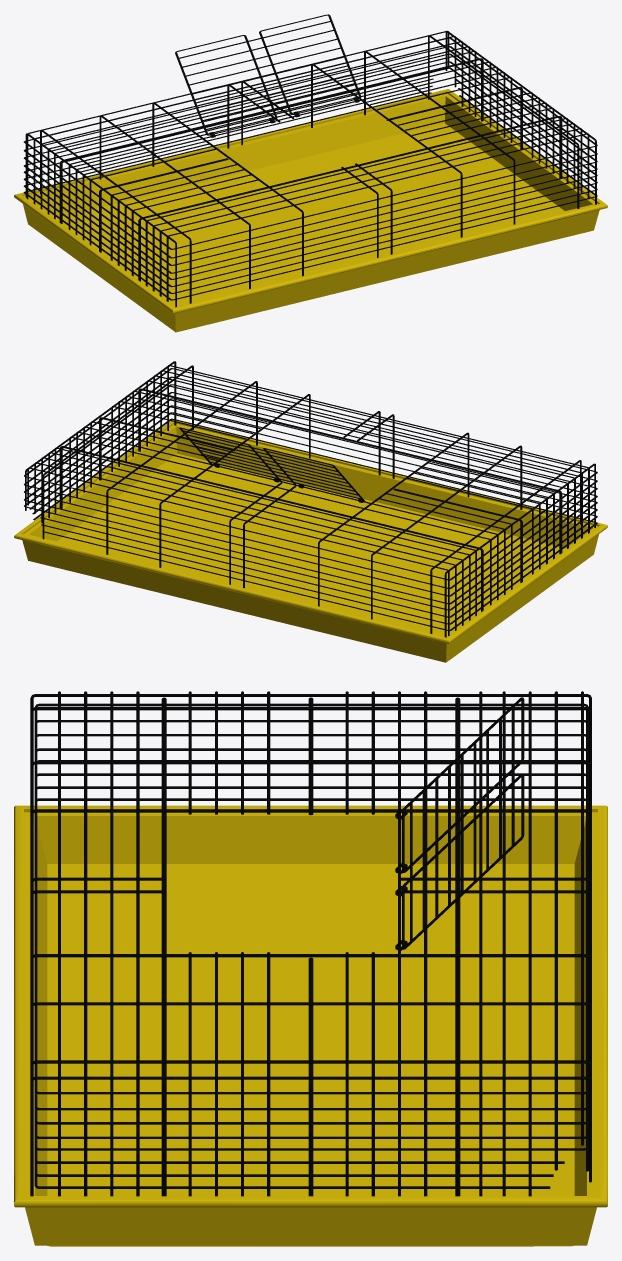
The model's file is SM_CageTrou.fbx.
3 views of the same model, one above another, from view 1: azimuth 30°, elevation 25°; view 2: azimuth 150°, elevation 25°; view 3: azimuth 270°, elevation 25° (orthographic). The views are drawn at different scales.
Parts seen in each view (by area): view 1: pTorus73; view 2: pTorus73; view 3: pTorus73.
Boxes of the visible parts, box(x1,y1,x2,y2) form: pTorus73: box(14, 14, 607, 332); pTorus73: box(14, 361, 607, 662); pTorus73: box(14, 691, 607, 1246).
Size of the model in its own units: 234 by 80.99 by 148.
